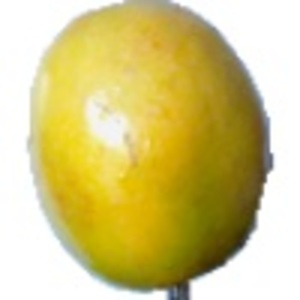maracujá: (28, 1, 276, 300)
